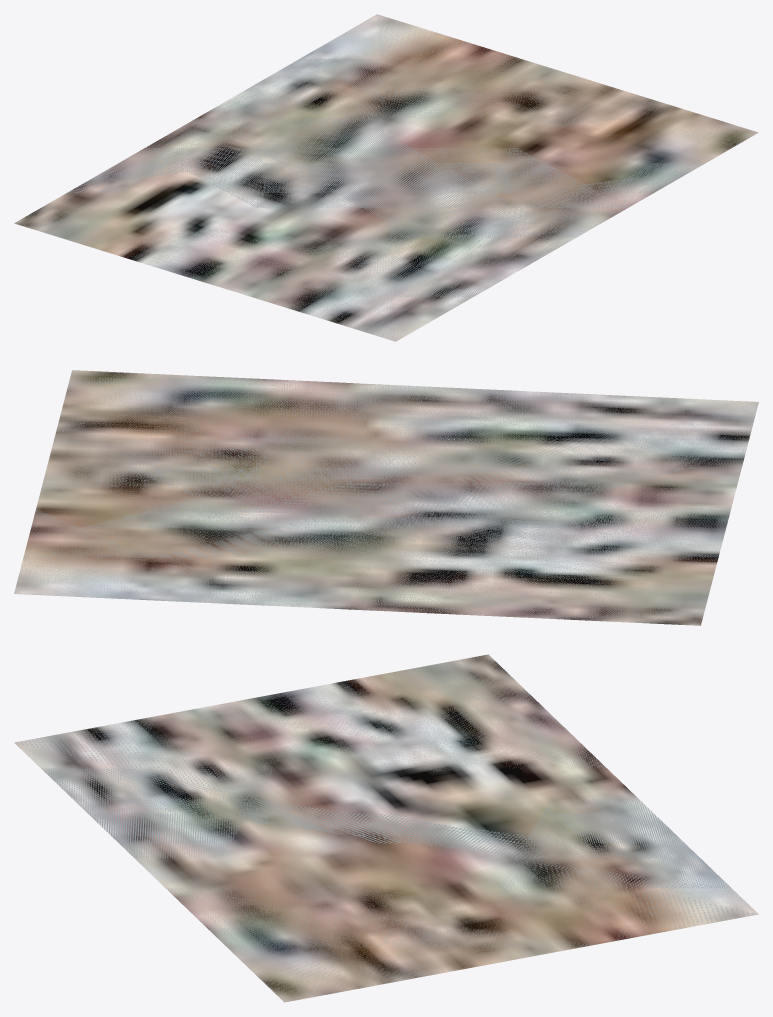
File: 西庸城堡656.dae
3 renders of one model, top to bottom at view 1: azimuth 30°, elevation 25°; view 2: azimuth 150°, elevation 25°; view 3: azimuth 270°, elevation 25°, orthographic. The views are drawn at different scales.
Parts seen in each view (by area): view 1: SketchUp; view 2: SketchUp; view 3: SketchUp.
Boxes of the visible parts, left/top/right/bottom form: SketchUp: left=14, top=14, right=758, bottom=341; SketchUp: left=14, top=370, right=758, bottom=625; SketchUp: left=14, top=654, right=758, bottom=1002.
Bounding box in the file's own units: 90.73 × 82.05 × 0.
